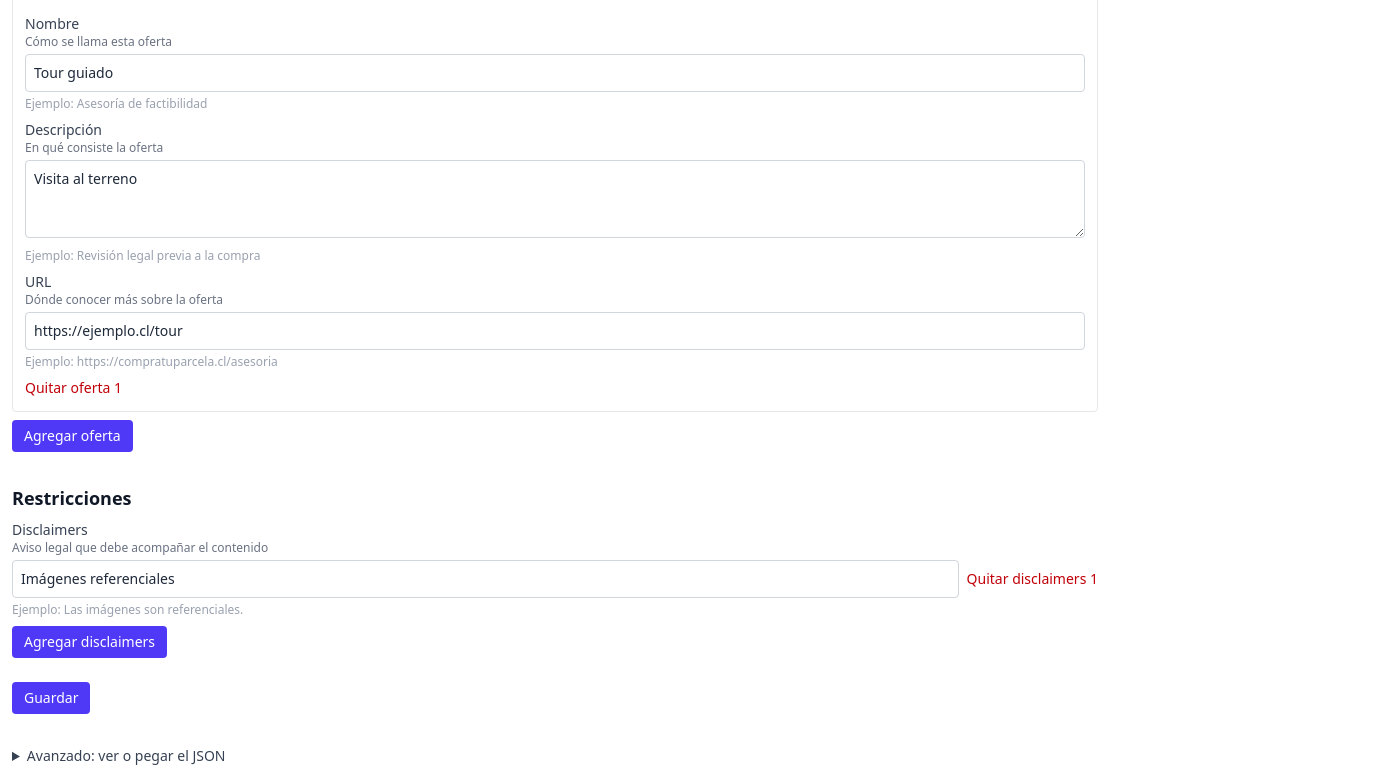
Test: EditorDePerfil › anuncia la versión que devolvió la acción, no la que traía de props
(page scrolled)
Click the button "Guardar" at (51, 698), box [12, 682, 90, 714]
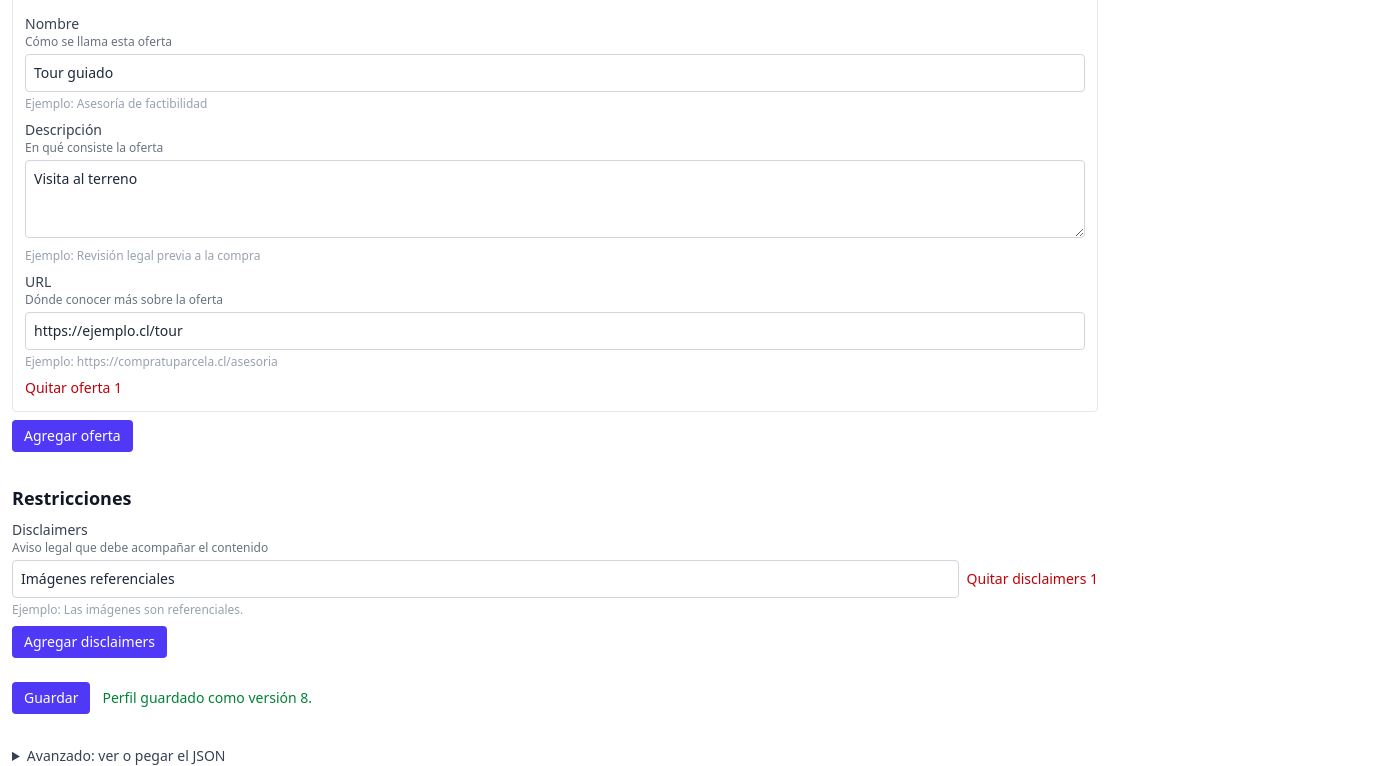
Check: the text "Perfil guardado como versión 8." is shown, box [102, 688, 312, 708]
